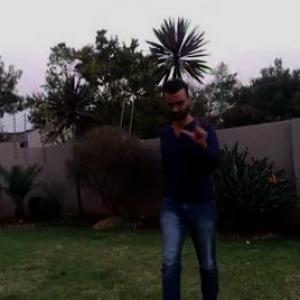land_hand: (177, 106, 211, 148)
